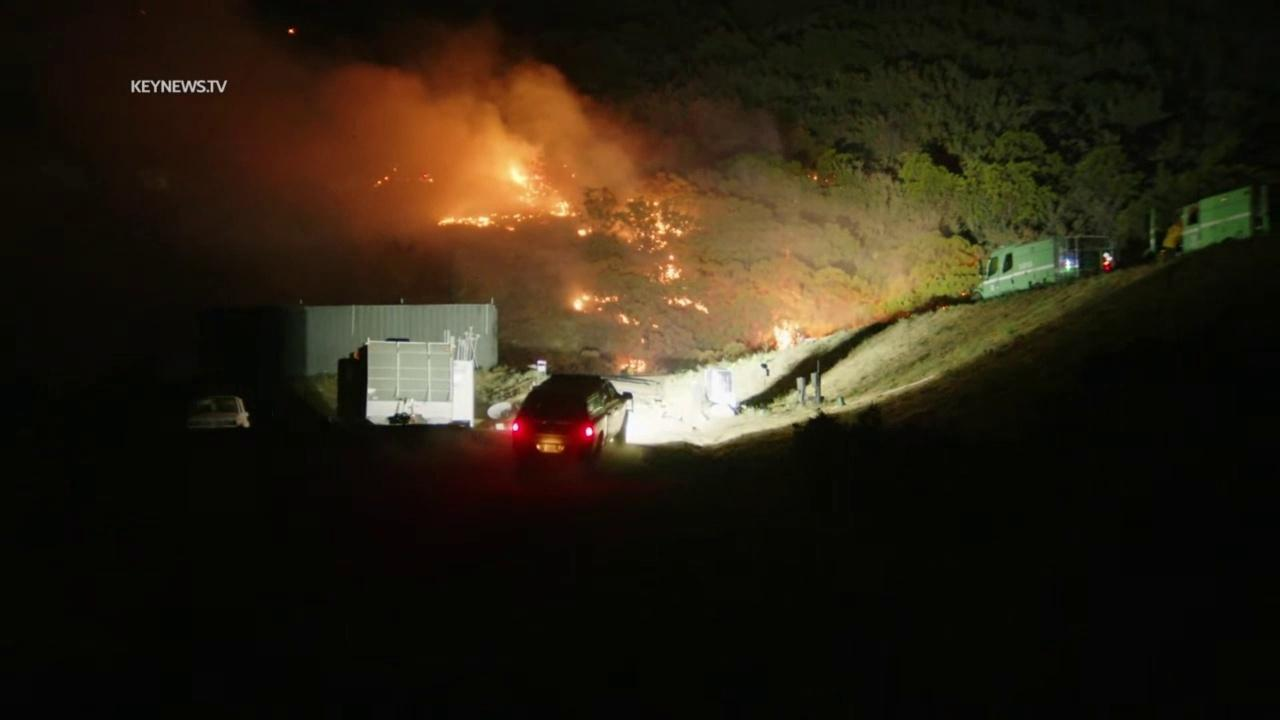fire: (500, 163, 577, 232), (626, 196, 686, 253), (771, 319, 806, 350), (435, 212, 498, 229), (661, 295, 710, 316), (573, 292, 619, 312), (656, 263, 683, 285), (615, 357, 647, 374), (575, 225, 593, 237), (418, 172, 435, 183), (617, 313, 631, 325), (632, 317, 641, 325), (667, 254, 676, 262), (287, 27, 296, 35), (812, 174, 819, 181), (376, 180, 382, 185), (384, 176, 389, 181)
smoke: (39, 0, 937, 335)
